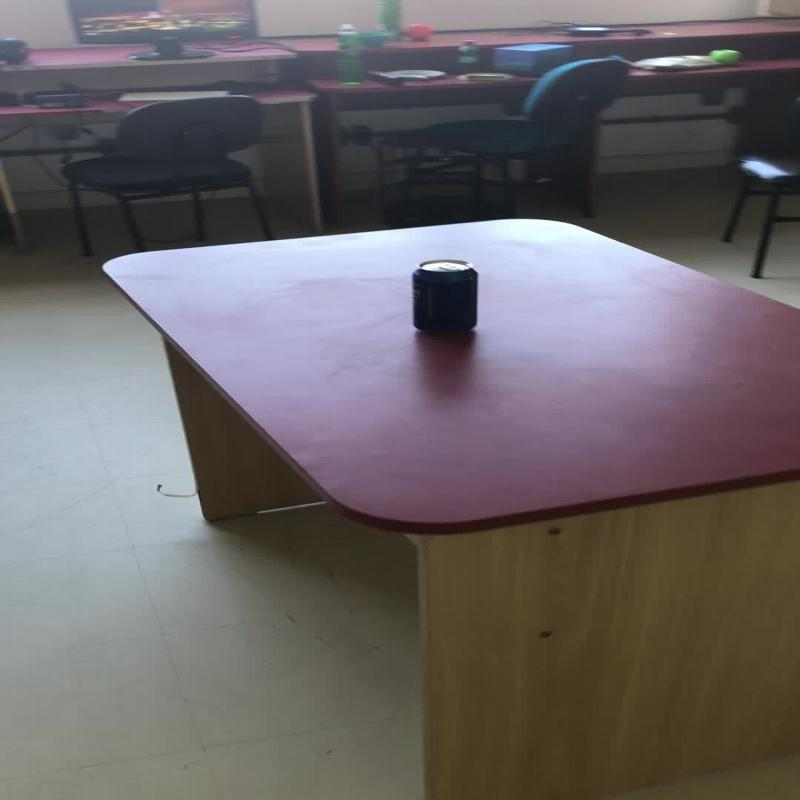tonic: (409, 258, 477, 331), (334, 24, 362, 84), (455, 39, 478, 73)
